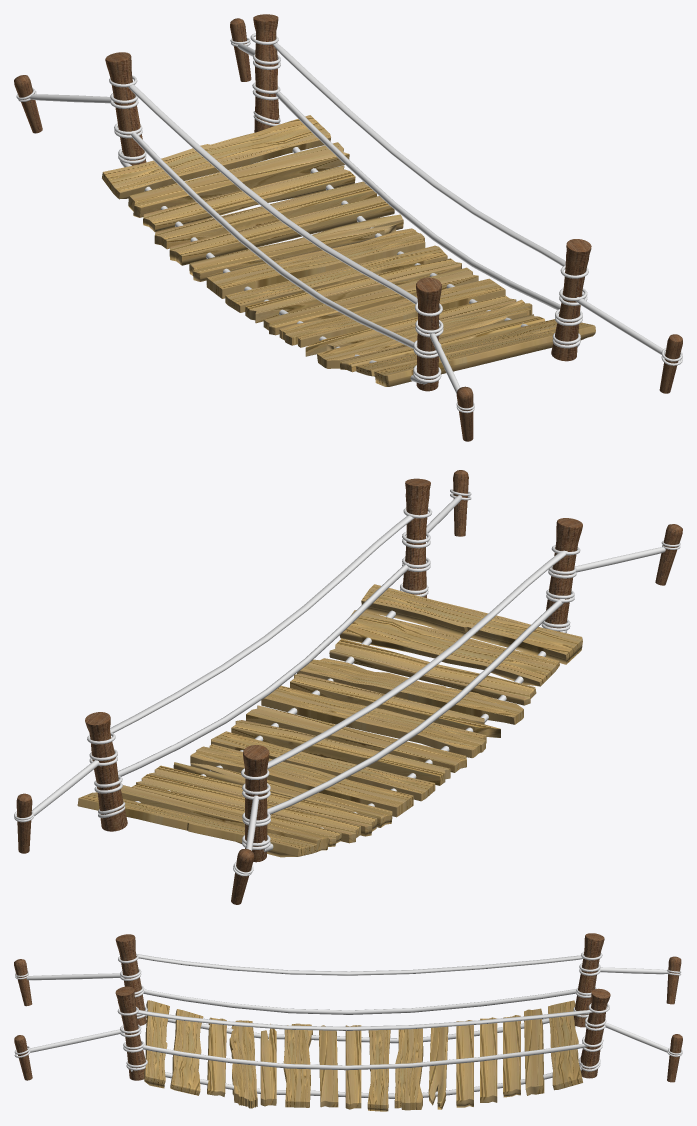
Rendered from ropebridge 3.fbx.
3 renders of one model, top to bottom at view 1: azimuth 30°, elevation 25°; view 2: azimuth 150°, elevation 25°; view 3: azimuth 270°, elevation 25°, orthographic. The views are drawn at different scales.
Parts seen in each view (by area): view 1: polySurface60, polySurface25, polySurface2, polySurface67, polySurface17, polySurface71, polySurface61, polySurface23, polySurface58, polySurface69, polySurface28, polySurface49 (+17 smaller); view 2: polySurface62, polySurface28, polySurface71, polySurface49, polySurface2, polySurface52, polySurface58, polySurface54, polySurface60, polySurface38, polySurface69, polySurface53 (+17 smaller); view 3: polySurface12, polySurface42, polySurface53, polySurface41, polySurface60, polySurface2, polySurface62, polySurface71, polySurface49, polySurface28, polySurface69, polySurface25 (+22 smaller).
Boxes of the visible parts, x1,y1,x2,y2 form: polySurface60: (102,115,330,199); polySurface25: (128,142,349,217); polySurface2: (206,228,425,298); polySurface67: (169,196,394,265); polySurface17: (143,165,355,232); polySurface71: (279,278,505,347); polySurface61: (154,181,376,249); polySurface23: (189,214,403,281); polySurface58: (245,258,461,323); polySurface69: (225,245,447,312); polySurface28: (374,322,595,386); polySurface49: (317,299,532,368); polySurface62: (339,610,559,686); polySurface28: (361,584,582,664); polySurface71: (261,685,486,757); polySurface49: (297,658,523,724); polySurface2: (190,744,413,817); polySurface52: (329,639,536,705); polySurface58: (231,720,450,785); polySurface54: (246,705,466,772); polySurface60: (77,792,317,857); polySurface38: (290,673,500,737); polySurface69: (211,731,435,801); polySurface53: (110,515,414,733); polySurface12: (141,1042,600,1070); polySurface42: (143,989,576,1014); polySurface53: (136,1009,592,1030); polySurface41: (136,954,584,975); polySurface60: (548,1000,582,1090); polySurface2: (394,1028,423,1110); polySurface62: (170,1009,203,1095); polySurface71: (283,1023,312,1107); polySurface49: (229,1020,257,1108); polySurface28: (144,1000,169,1088); polySurface69: (367,1030,390,1111); polySurface25: (524,1008,544,1095).
Size of the model in its own units: 11.84 by 6.97 by 38.18.
Materials: 4 (3 with a texture image).
